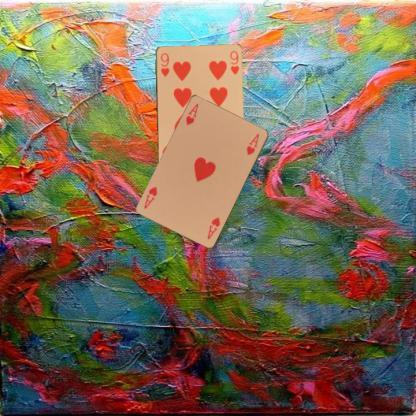9h: (158, 51, 170, 78)
Ah: (183, 100, 200, 126), (204, 214, 221, 240)
